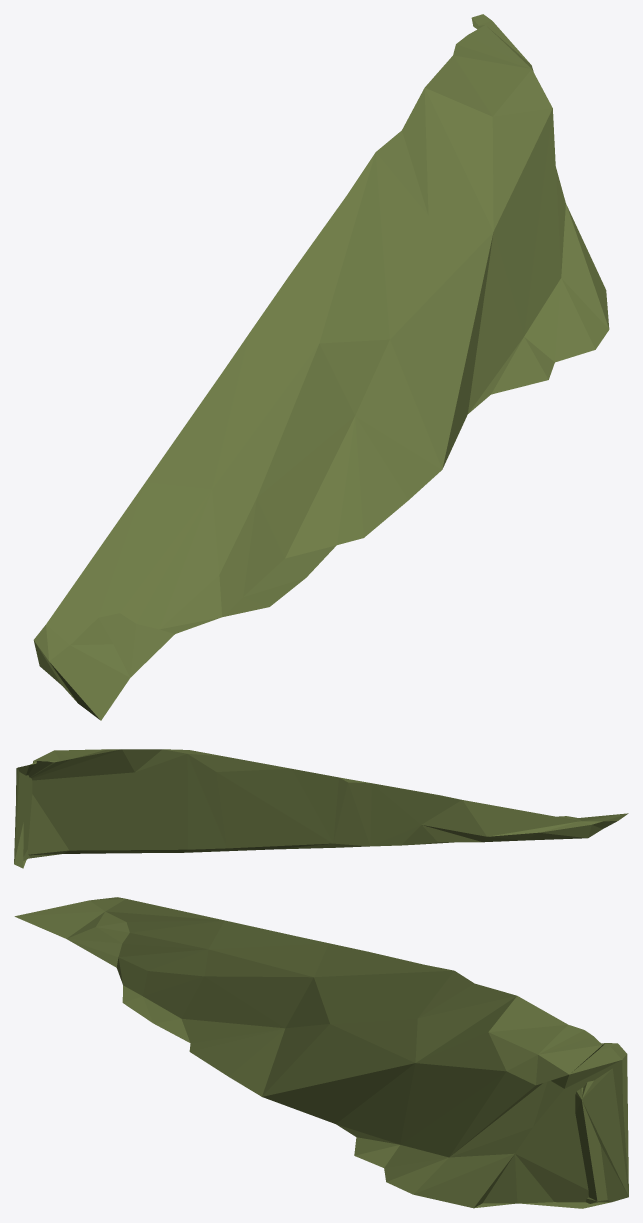
Rendered from ground_34.fbx.
3 views of the same model, one above another, from view 1: azimuth 30°, elevation 25°; view 2: azimuth 150°, elevation 25°; view 3: azimuth 270°, elevation 25° (orthographic). The views are drawn at different scales.
Visible parts, largest first — view 1: ground_34; view 2: ground_34; view 3: ground_34.
Boxes of the visible parts, box(x1,y1,x2,y2) form: ground_34: box(33, 14, 609, 720); ground_34: box(14, 749, 628, 868); ground_34: box(14, 897, 628, 1208).
Bounding box in the file's own units: 16.36 × 4.13 × 14.53.
